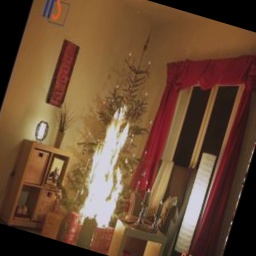fire: (61, 91, 159, 235)
